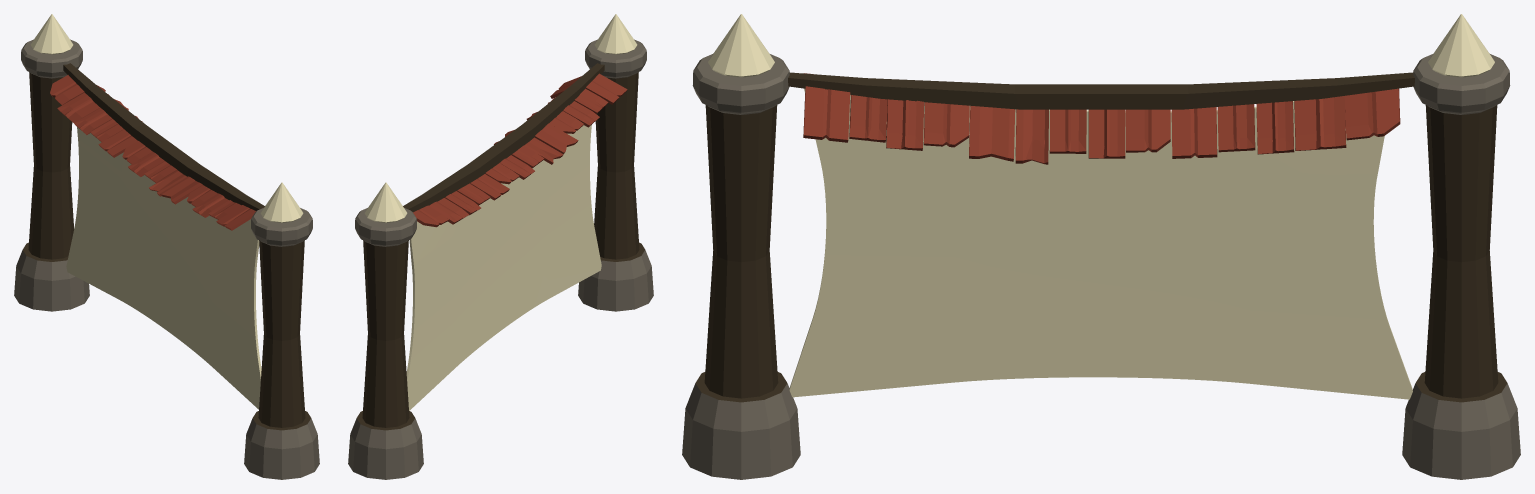
File: BIG_desk.fbx
3 renders of one model, left to right at view 1: azimuth 30°, elevation 25°; view 2: azimuth 150°, elevation 25°; view 3: azimuth 270°, elevation 25°, orthographic. The views are drawn at different scales.
Visible parts, largest first — view 1: Cube.022, Cylinder.011, Cube.035, Cube.020; view 2: Cube.022, Cylinder.011, Cube.035, Cube.020; view 3: Cube.022, Cylinder.011, Cube.035, Cube.020.
Boxes of the visible parts, left/top/right/bottom form: Cube.022: left=66, top=127, right=261, bottom=409; Cylinder.011: left=14, top=14, right=319, bottom=479; Cube.035: left=50, top=75, right=255, bottom=230; Cube.020: left=63, top=63, right=264, bottom=210; Cube.022: left=406, top=125, right=601, bottom=410; Cylinder.011: left=348, top=14, right=653, bottom=479; Cube.035: left=413, top=73, right=627, bottom=227; Cube.020: left=403, top=63, right=604, bottom=212; Cube.022: left=789, top=88, right=1412, bottom=399; Cylinder.011: left=682, top=14, right=1520, bottom=479; Cube.035: left=803, top=73, right=1400, bottom=164; Cube.020: left=788, top=72, right=1414, bottom=109.
Size of the model in its own units: 215 by 819 by 1413.
